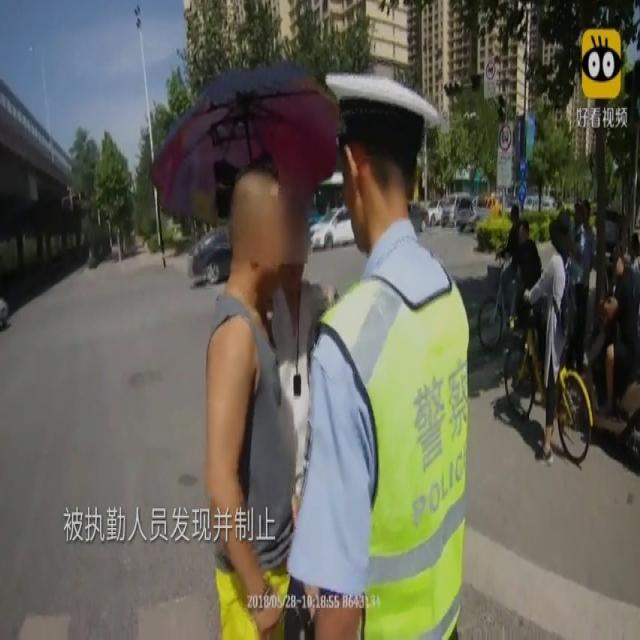non-fight: (291, 72, 471, 640), (204, 165, 308, 638), (524, 210, 578, 464)
